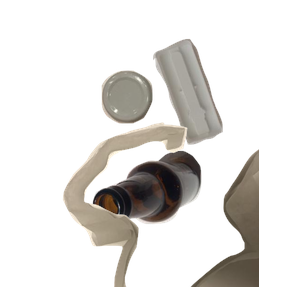glass: (90, 148, 300, 300)
metal: (99, 68, 244, 184)
plastic: (150, 36, 300, 173)
trash: (60, 120, 300, 300)
